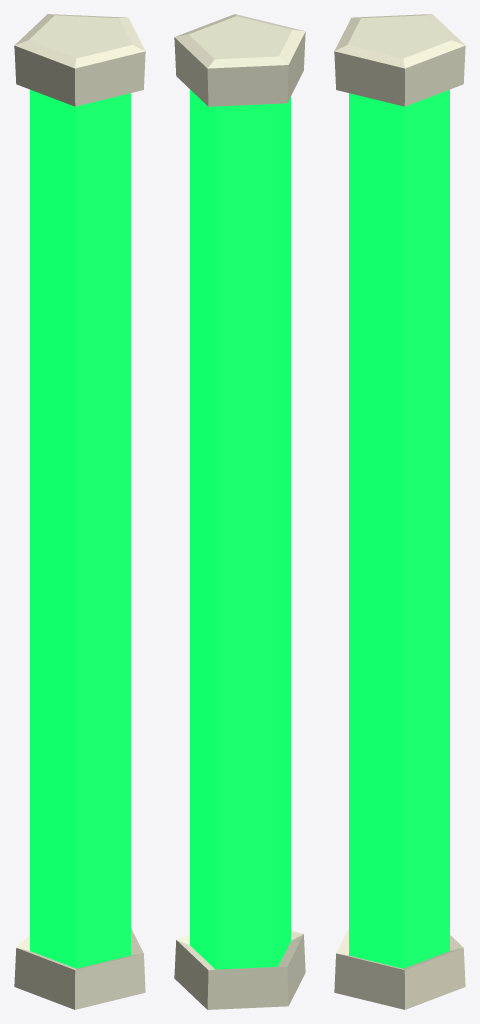
File: GlowStick.fbx
3 renders of one model, left to right at view 1: azimuth 30°, elevation 25°; view 2: azimuth 150°, elevation 25°; view 3: azimuth 330°, elevation 25°, orthographic.
Parts seen in each view (by area): view 1: Glowstick; view 2: Glowstick; view 3: Glowstick.
Part boxes in pixels (x1=…): Glowstick: x1=14, y1=14, x2=145, y2=1009; Glowstick: x1=174, y1=14, x2=305, y2=1009; Glowstick: x1=334, y1=14, x2=465, y2=1009.
Size of the model in its own units: 3.61 by 28.65 by 3.43.
